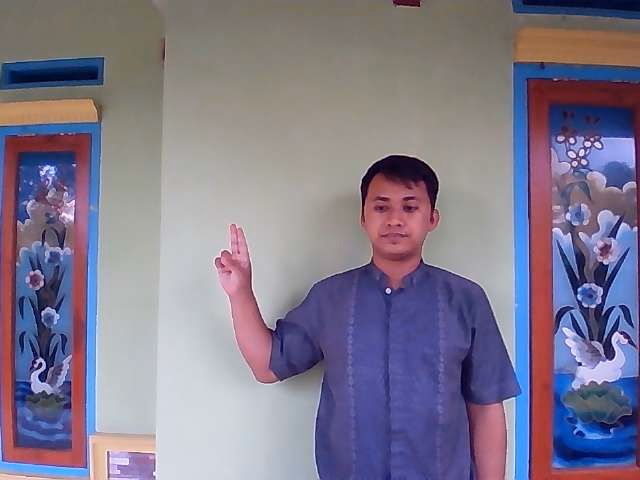U: (212, 222, 255, 300)
